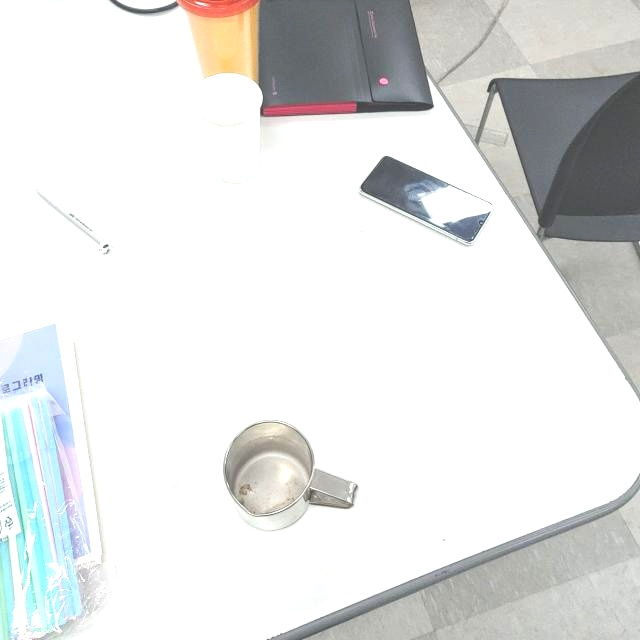cup: (218, 416, 359, 534)
phone: (355, 156, 494, 249)
